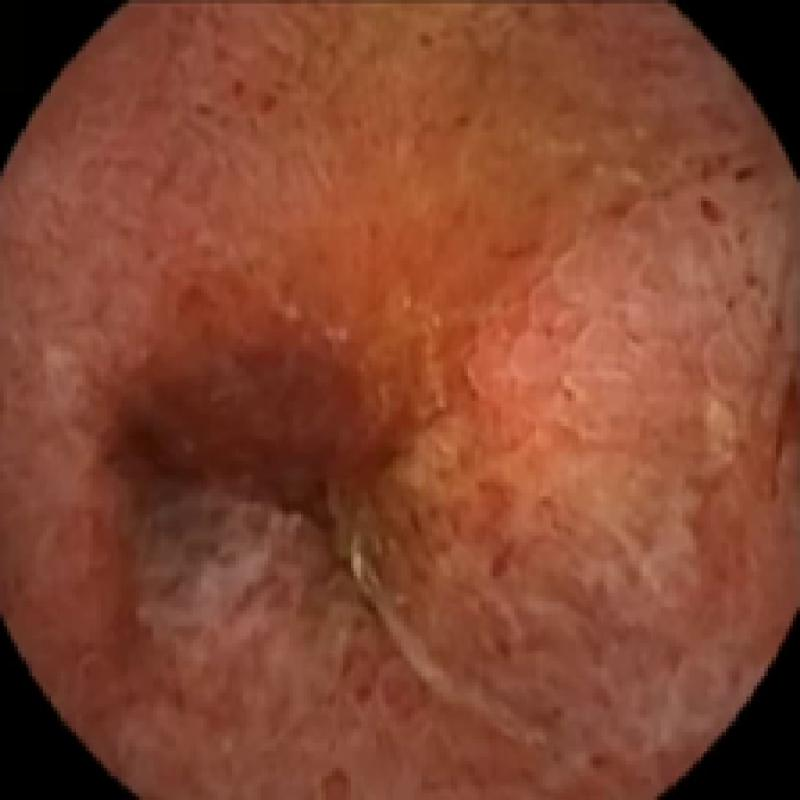bleeding: (68, 270, 515, 642), (693, 179, 800, 532)
